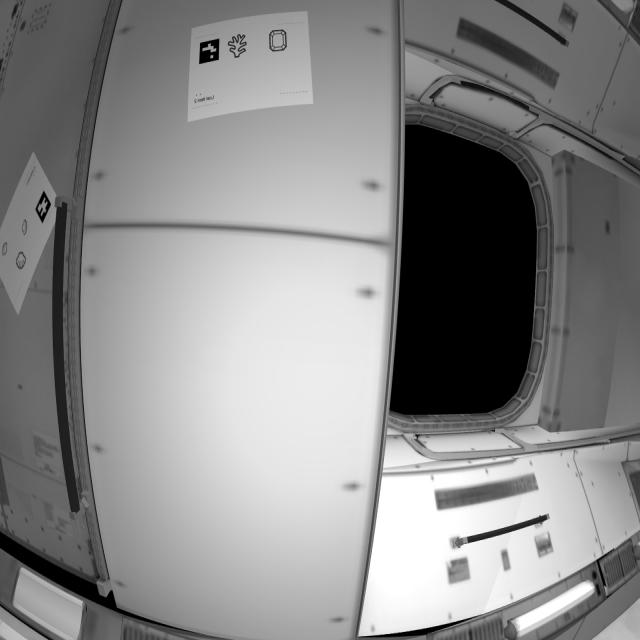coral: (226, 30, 252, 62)
emerald: (267, 26, 290, 56)
shell: (16, 252, 29, 272), (22, 220, 31, 237), (2, 242, 10, 258)
